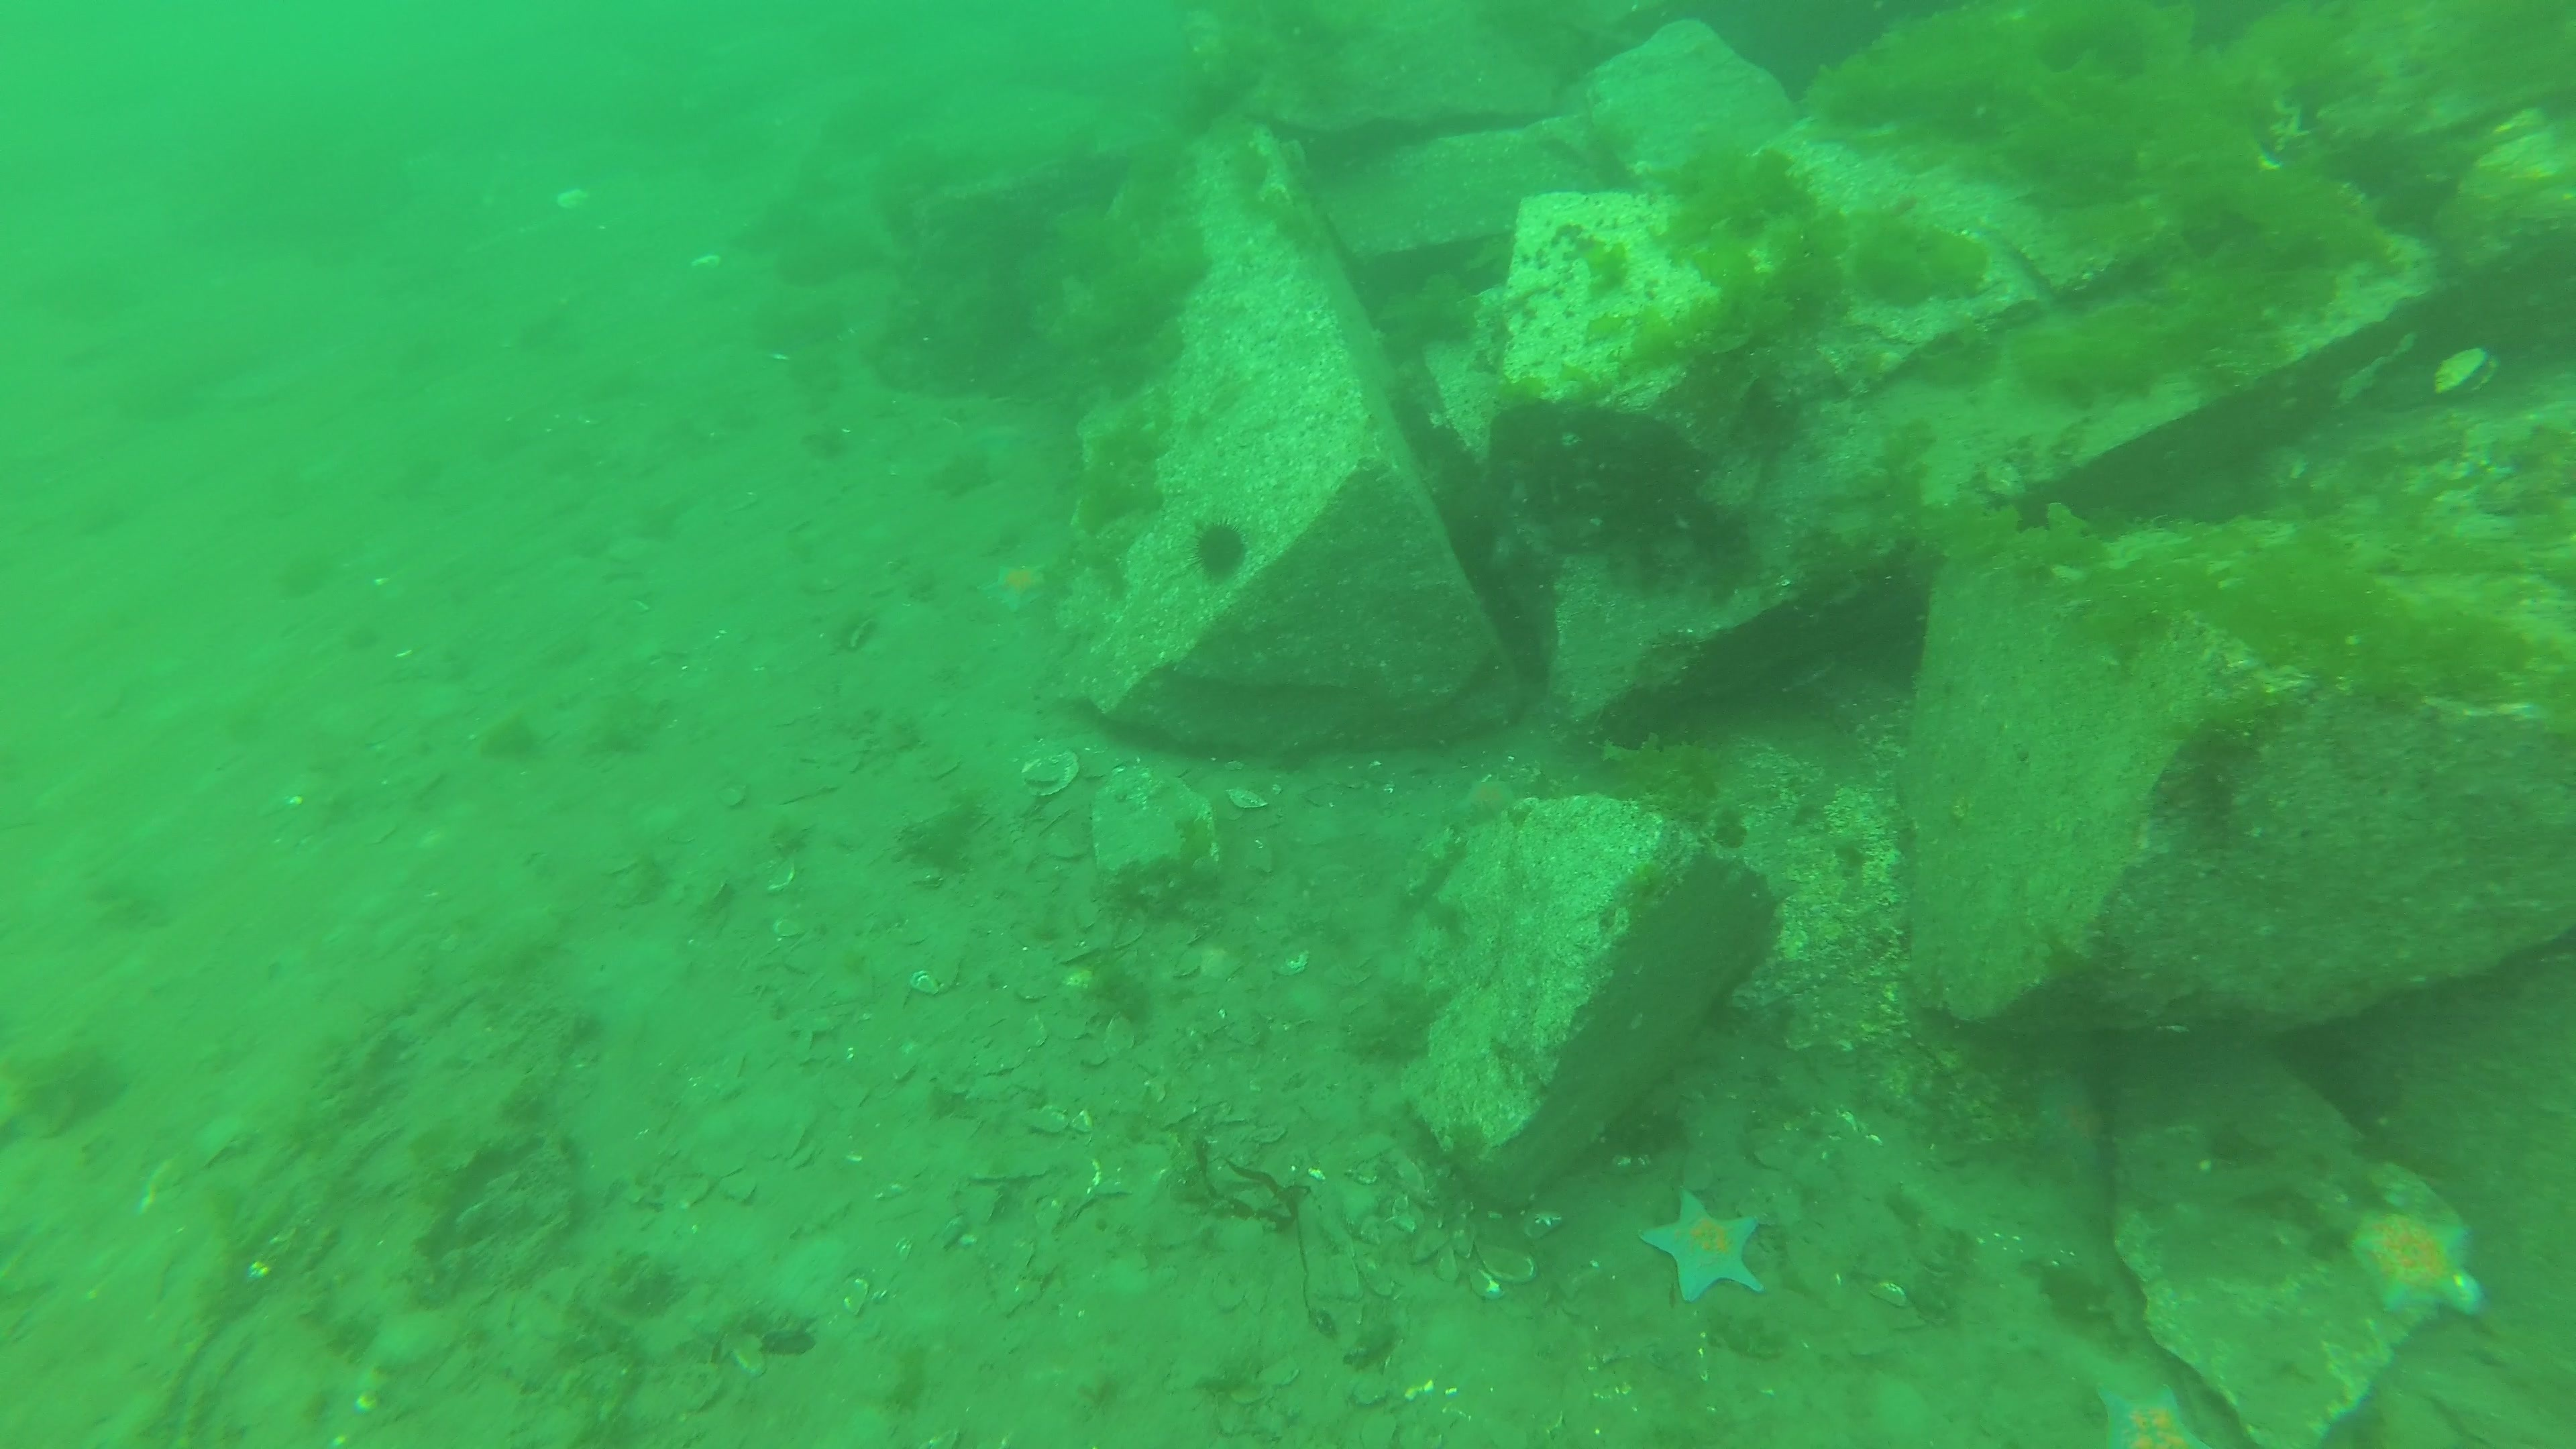echinus: (1184, 520, 1253, 591)
scallop: (2420, 345, 2503, 402)
starfish: (2342, 1194, 2482, 1322), (1633, 1189, 1769, 1306), (2082, 1373, 2204, 1449)
